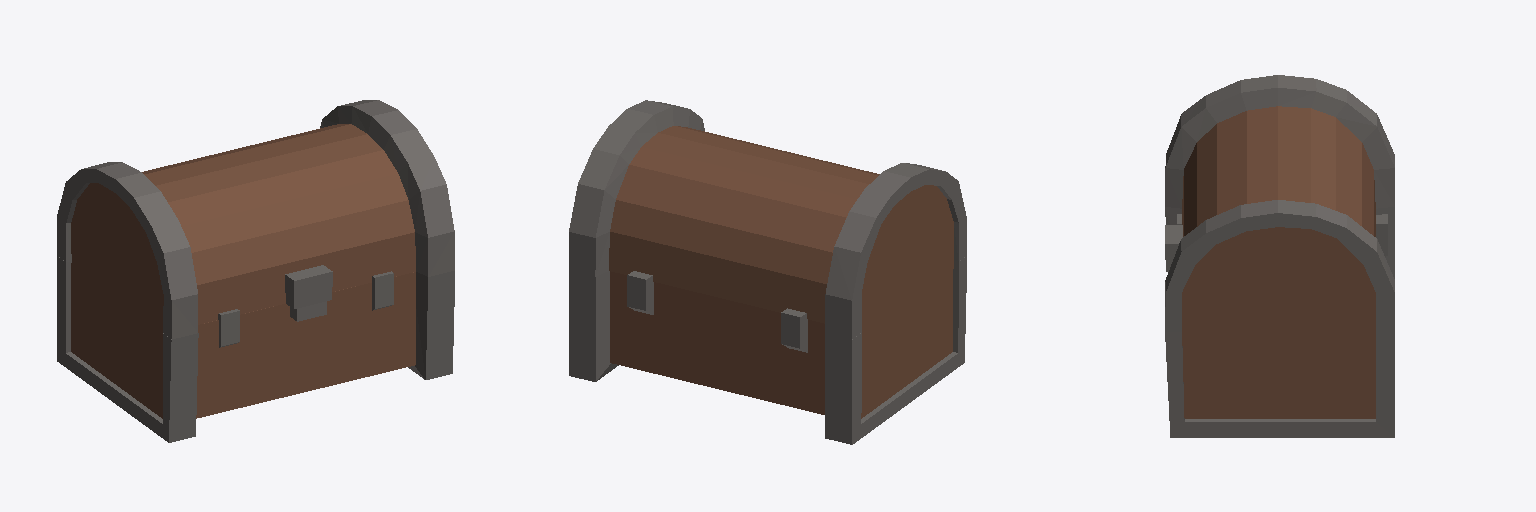
3 renders of one model, left to right at view 1: azimuth 30°, elevation 25°; view 2: azimuth 150°, elevation 25°; view 3: azimuth 270°, elevation 25°, orthographic.
Visible parts, largest first — view 1: buroP:polySurface4Cofre_Sup_L3; view 2: buroP:polySurface4Cofre_Sup_L3; view 3: buroP:polySurface4Cofre_Sup_L3.
Part boxes in pixels (left/top/right/bottom): buroP:polySurface4Cofre_Sup_L3: left=57, top=100, right=454, bottom=442; buroP:polySurface4Cofre_Sup_L3: left=569, top=100, right=966, bottom=444; buroP:polySurface4Cofre_Sup_L3: left=1165, top=75, right=1394, bottom=437.
Bounding box in the file's own units: 0.4003 × 0.3029 × 0.281.
Materials: 2 (2 with a texture image).